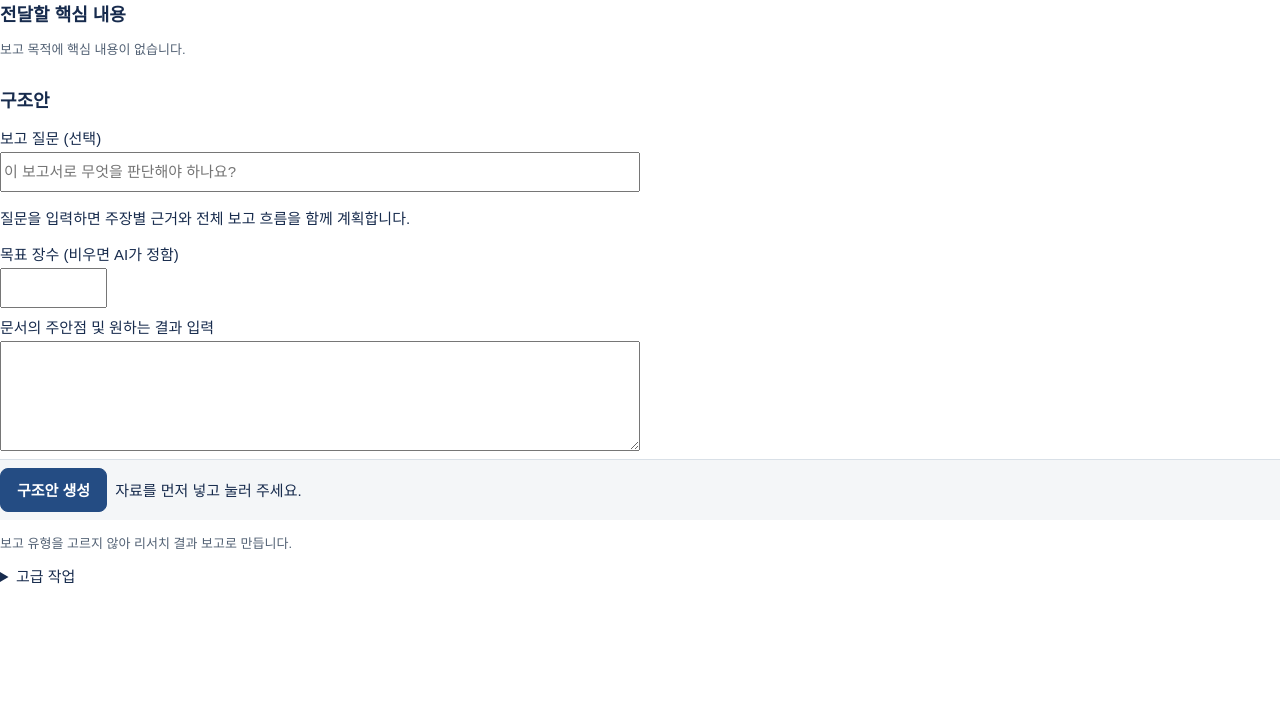
Scenario: 구조안을 생성해 초안 표를 보여준다
The image size is (1280, 720).
Click the button "구조안 생성" at (54, 490), box [0,468,107,512]
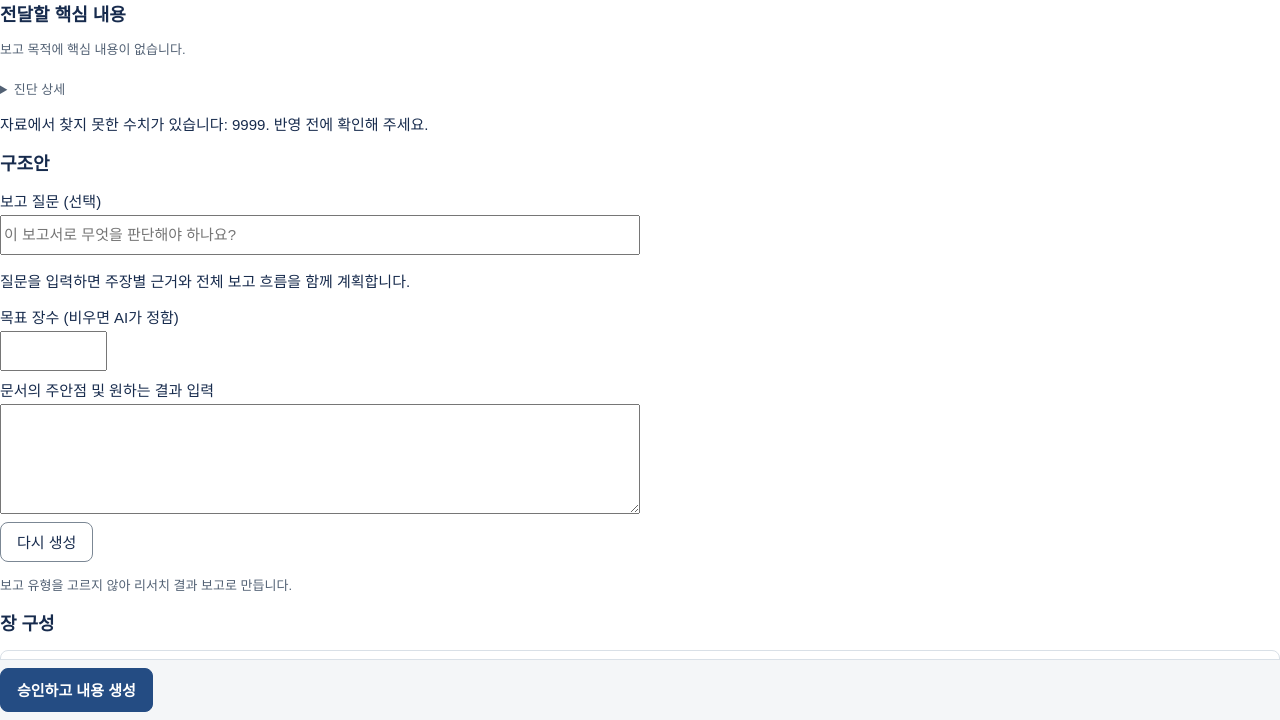
Expected: the text "자료에서 찾지 못한 수치가 있습니다: 9999. 반영 전에 확인해 주세요." is shown, [0,116,428,133]
